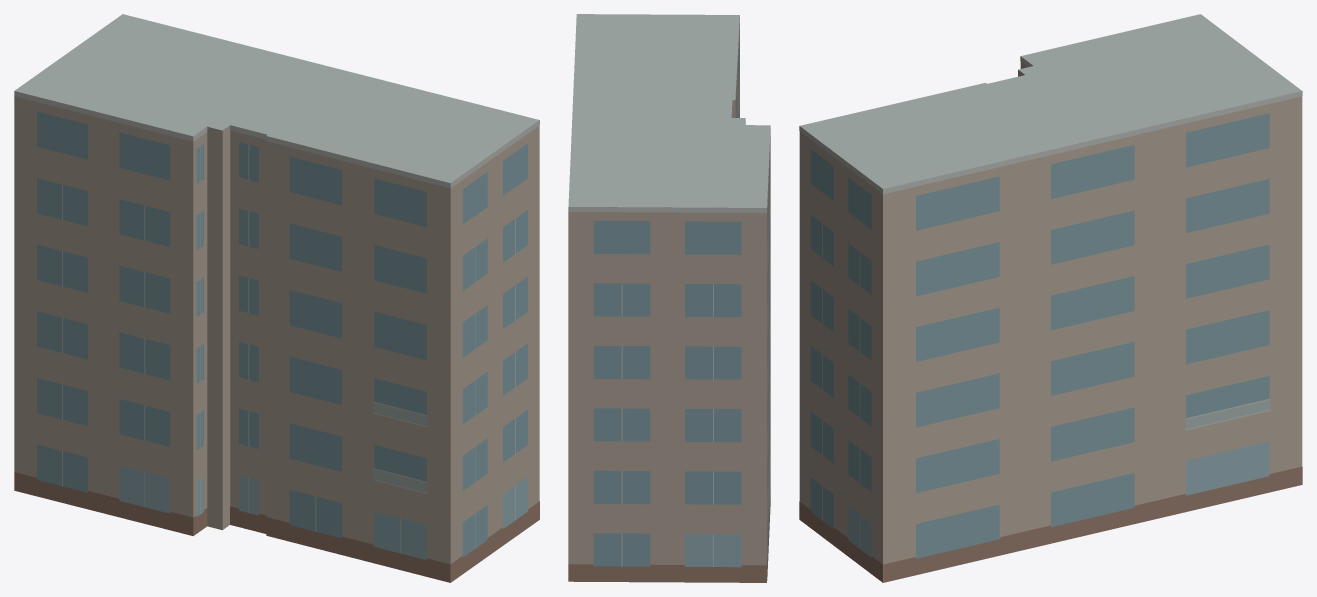
The model's file is survey-upis-32747670.glb.
3 views of the same model, side by side, from view 1: azimuth 30°, elevation 25°; view 2: azimuth 150°, elevation 25°; view 3: azimuth 270°, elevation 25° (orthographic). The views are drawn at different scales.
Parts seen in each view (by area): view 1: survey-upis-32747670.tmp; view 2: survey-upis-32747670.tmp; view 3: survey-upis-32747670.tmp.
Boxes of the visible parts, x1,y1,x2,y2 form: survey-upis-32747670.tmp: [14, 14, 539, 582]; survey-upis-32747670.tmp: [568, 14, 770, 582]; survey-upis-32747670.tmp: [799, 14, 1302, 582].
Bounding box in the file's own units: 17.46 × 18.3 × 21.19.
